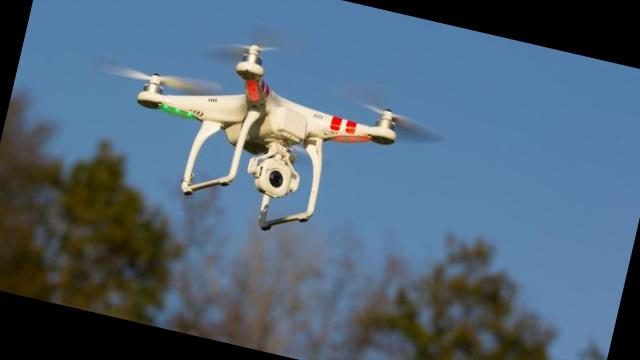drone: (82, 14, 470, 259)
